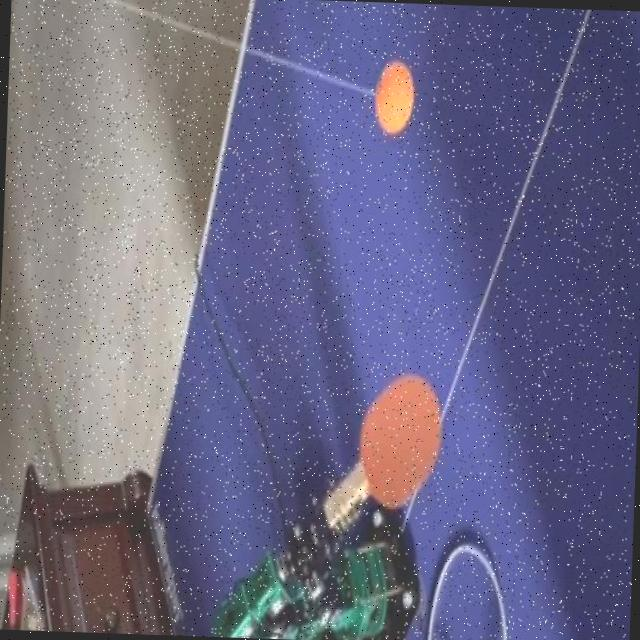ping-pong-ball: (373, 60, 413, 132)
